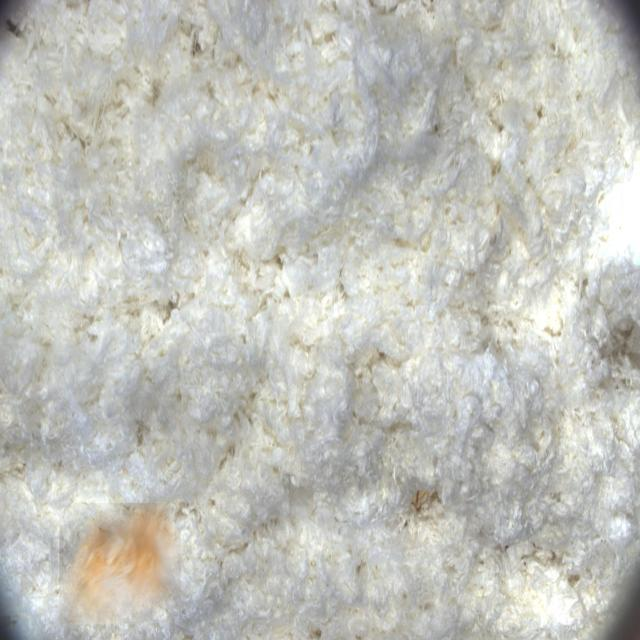dust: (59, 503, 181, 624)
